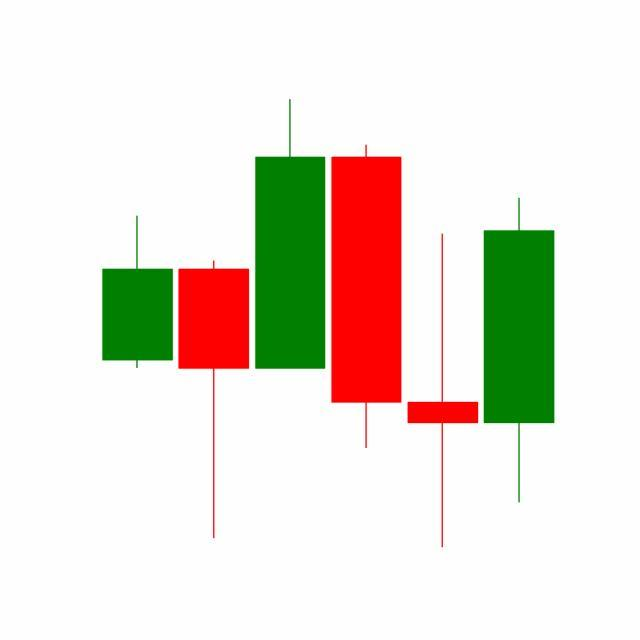Spinning Top: (404, 231, 482, 552)
